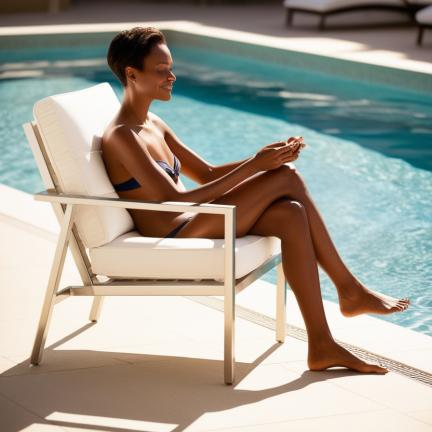guest on chair: (24, 28, 409, 383)
